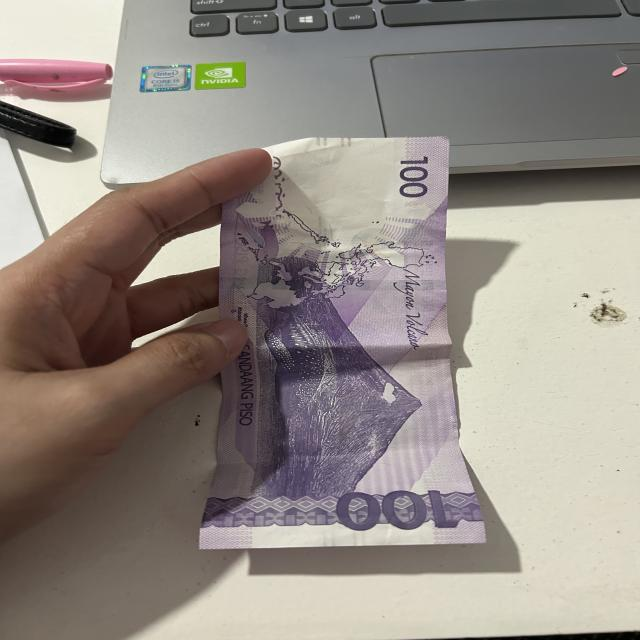100_whale: (258, 305, 328, 419)
100_whale_watermark: (259, 219, 288, 260)
value_watermark: (299, 150, 340, 170)
